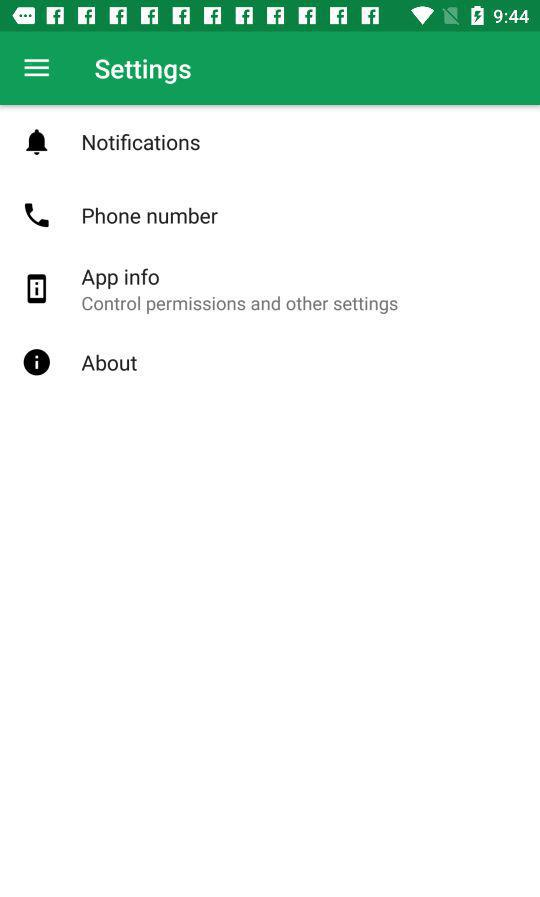Icon: (23, 349, 51, 377), (26, 129, 49, 156), (28, 274, 48, 305), (25, 59, 51, 78)
Image: (25, 203, 50, 228)
Text: (82, 296, 398, 315), (95, 59, 192, 86), (83, 207, 219, 226), (83, 134, 201, 152), (83, 268, 161, 290), (82, 354, 139, 372)
Toolbar: (1, 32, 540, 106)
UpperTaskBar: (1, 1, 540, 33)
